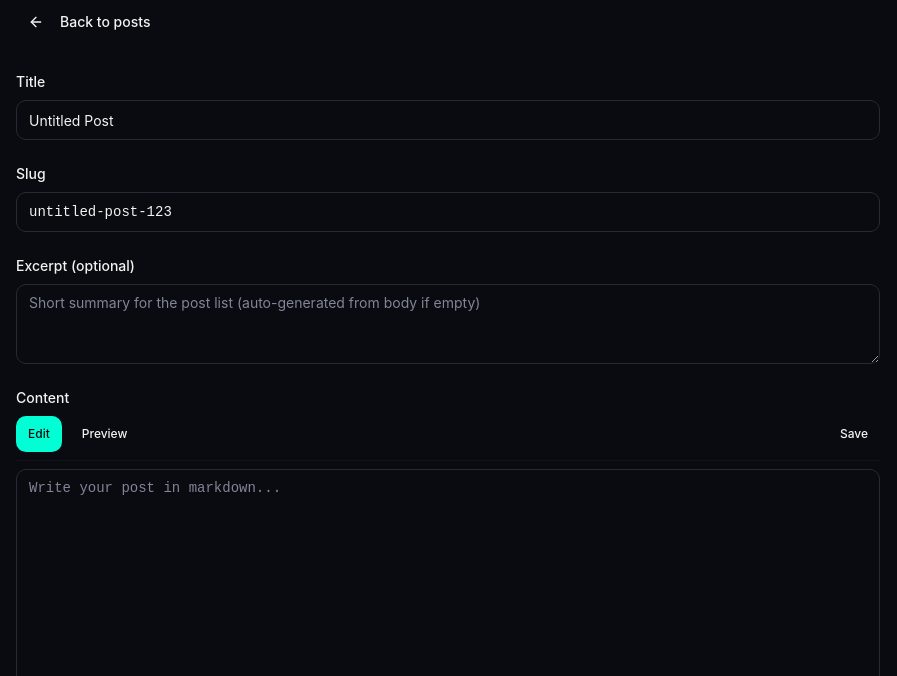
Scenario: BlogEditorPage › create mode bootstrap + slug rules + publish redirect
This screenshot has width=897, height=676.
Later steps or results of the test are not shown.
Replace the text in the field with placeholder "Post title" below "Title" with "My Title". click: x=448, y=120
box: [16,100,880,140]
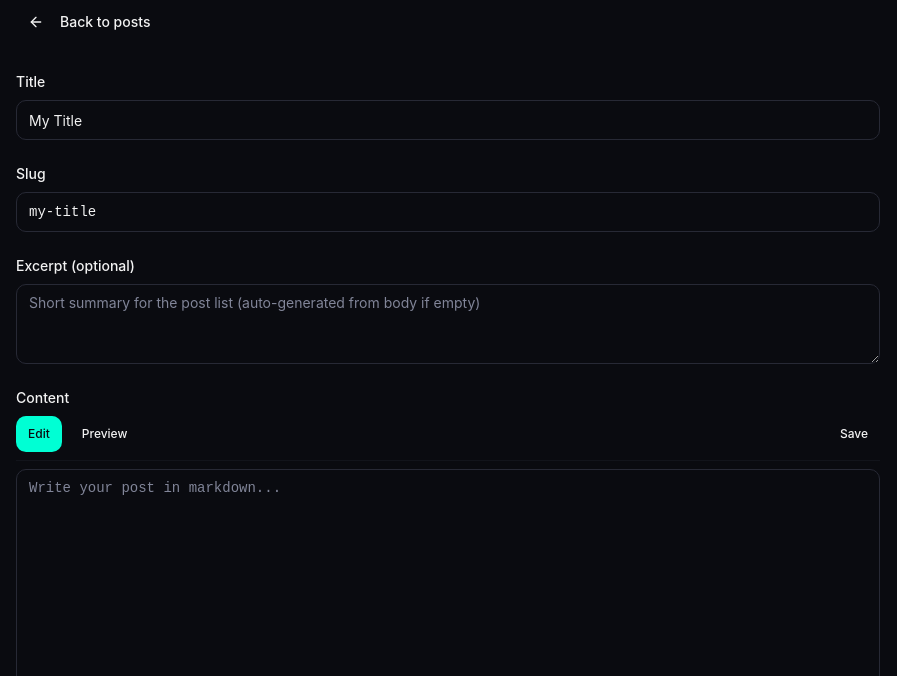
Expected: the field with placeholder "url-friendly-slug" below "Slug" holds "my-title", [16,192,880,232]
